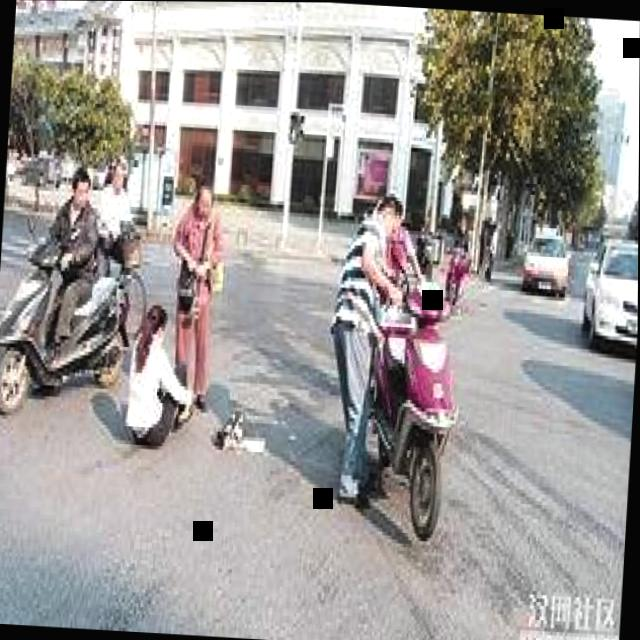Fall-Detected: (114, 289, 202, 451)
